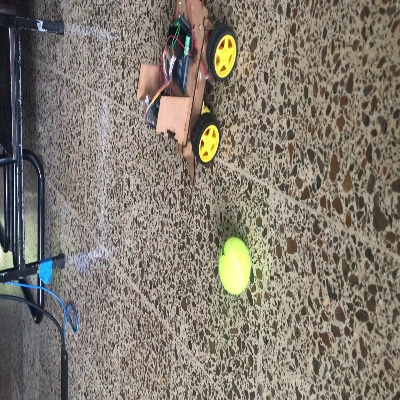Ball: (218, 236, 251, 297)
Robot: (133, 11, 237, 183)
